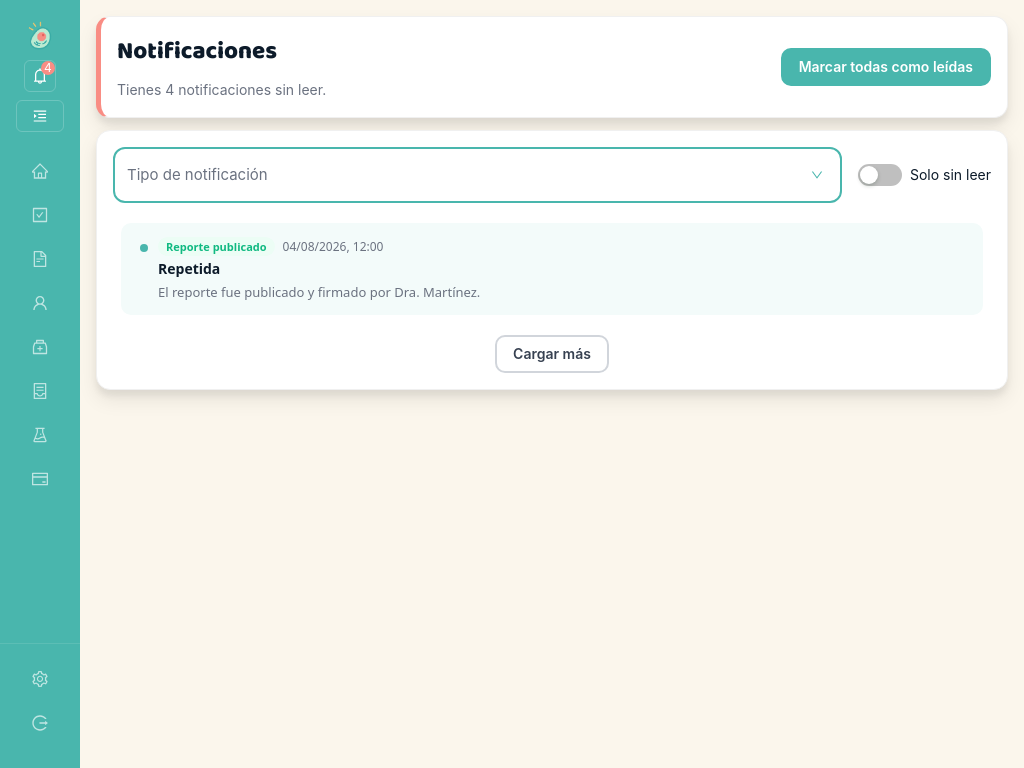
it: cursor paging › does not render a row twice when a page repeats one
The width and height of the screenshot is (1024, 768).
Expected: the text "Repetida" is shown, [158,259,220,278]
Step 1. Click the button "Cargar más" → (552, 354), box [495,335,609,373]
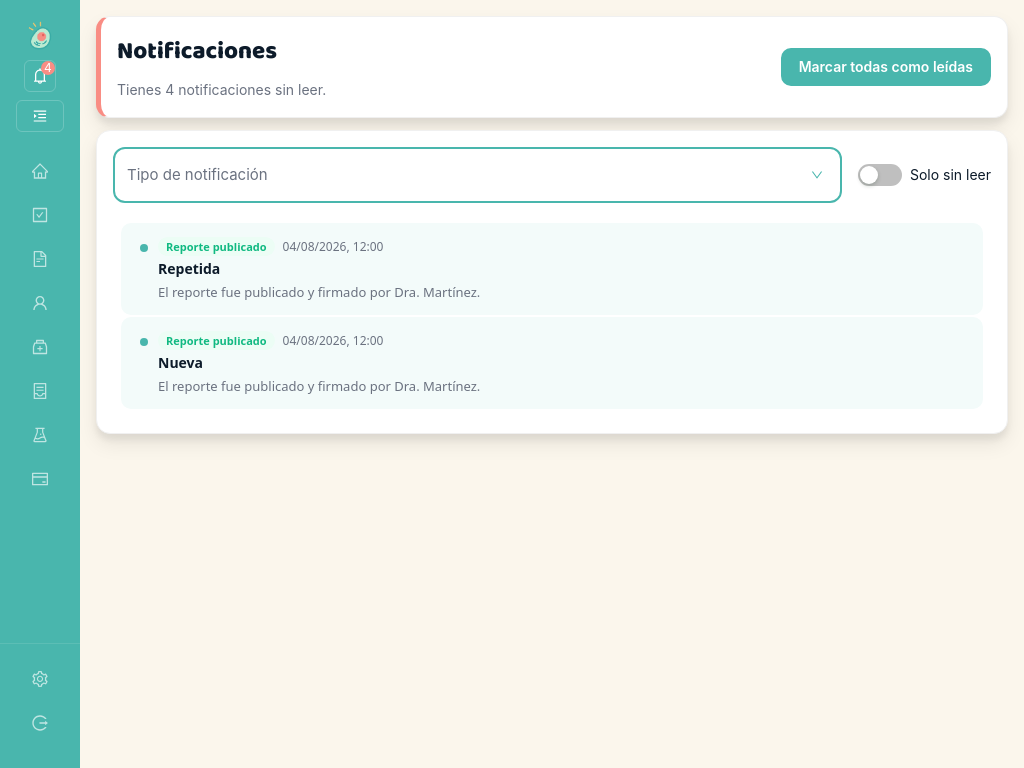
Expected: the text "Repetida" is shown once, [158,259,220,278]
Expected: the text "Nueva" is shown, [158,353,203,372]
